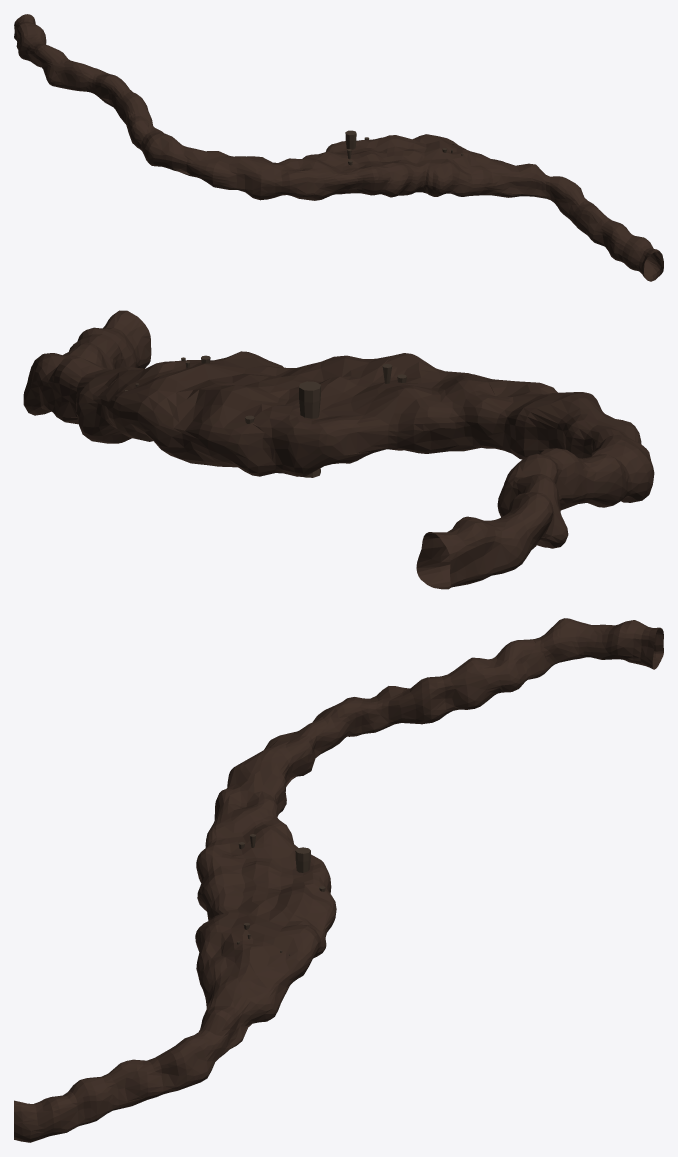
File: cave.fbx
3 renders of one model, top to bottom at view 1: azimuth 30°, elevation 25°; view 2: azimuth 150°, elevation 25°; view 3: azimuth 270°, elevation 25°, orthographic. The views are drawn at different scales.
Parts seen in each view (by area): view 1: Cube; view 2: Cube, Pillar; view 3: Cube.
Part boxes in pixels (x1,y1,x2,y2): Cube: [14, 14, 663, 281]; Cube: [23, 310, 654, 589]; Pillar: [299, 381, 320, 477]; Cube: [14, 618, 663, 1142].
Bounding box in the file's own units: 1398 × 588 × 1358.
